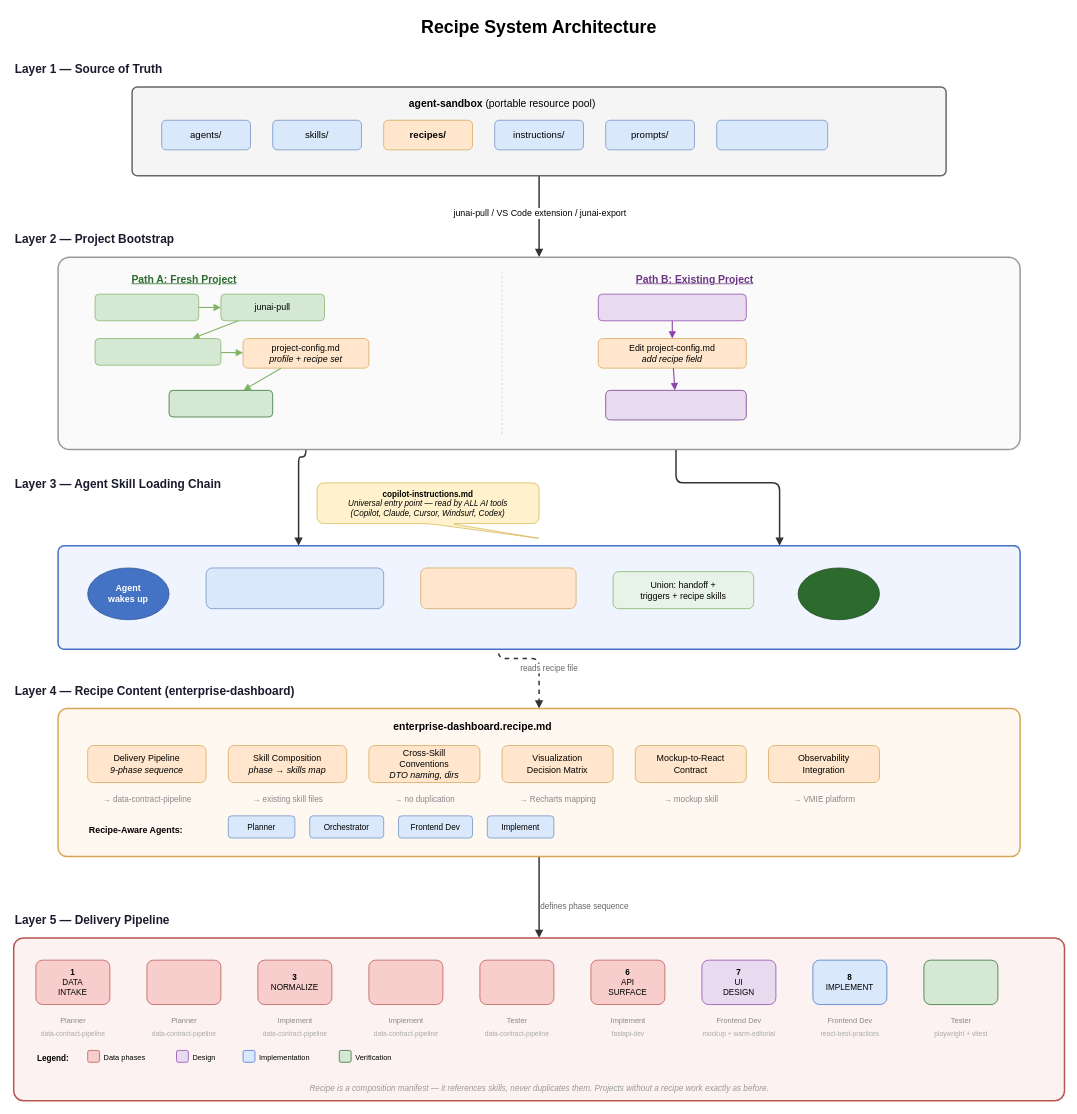
This 1077x1114 diagram has some shape labels left out. The shapes that lost their labels are listed below. From the top down, each one's centre as x and y in pixels, then its label:
At point 772,135: "project-config.md".
At point 146,307: "Create new repo".
At point 672,307: "junai-pull (get latest pool)".
At point 157,351: "Run onboard-project skill".
At point 220,403: "Start building ✓".
At point 675,405: "Next agent invocation picks up recipe ✓".
At point 294,588: "Read pipeline-state.json handoff_payload.required_skills[] (pipeline mode only)".
At point 498,588: "Read project-config.md recipe field → load recipe (ALL modes — universal)".
At point 838,593: "Execute task".
At point 183,982: "2 ADAPTER".
At point 405,982: "4 DISPLAY DTO".
At point 516,982: "5 CONTRACT TEST".
At point 960,982: "9 VERIFY".
